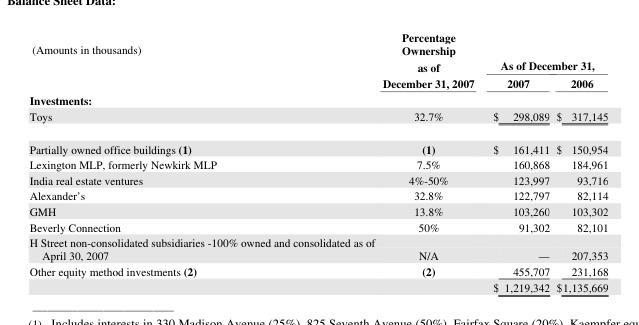table: (28, 28, 607, 294)
table column: (28, 28, 378, 294), (378, 28, 483, 294), (483, 28, 552, 294), (552, 28, 607, 294)
table column header: (28, 28, 607, 91)
table projected row header: (28, 91, 607, 107)
table row: (28, 28, 607, 74), (28, 234, 607, 262), (28, 131, 607, 156), (28, 107, 607, 131), (28, 74, 607, 91), (28, 262, 607, 279), (28, 91, 607, 107), (28, 171, 607, 187), (28, 202, 607, 218), (28, 218, 607, 234), (28, 156, 607, 171), (28, 187, 607, 202), (28, 279, 607, 294)
table spanning cell: (28, 28, 378, 91), (378, 28, 483, 91), (483, 28, 607, 74)
